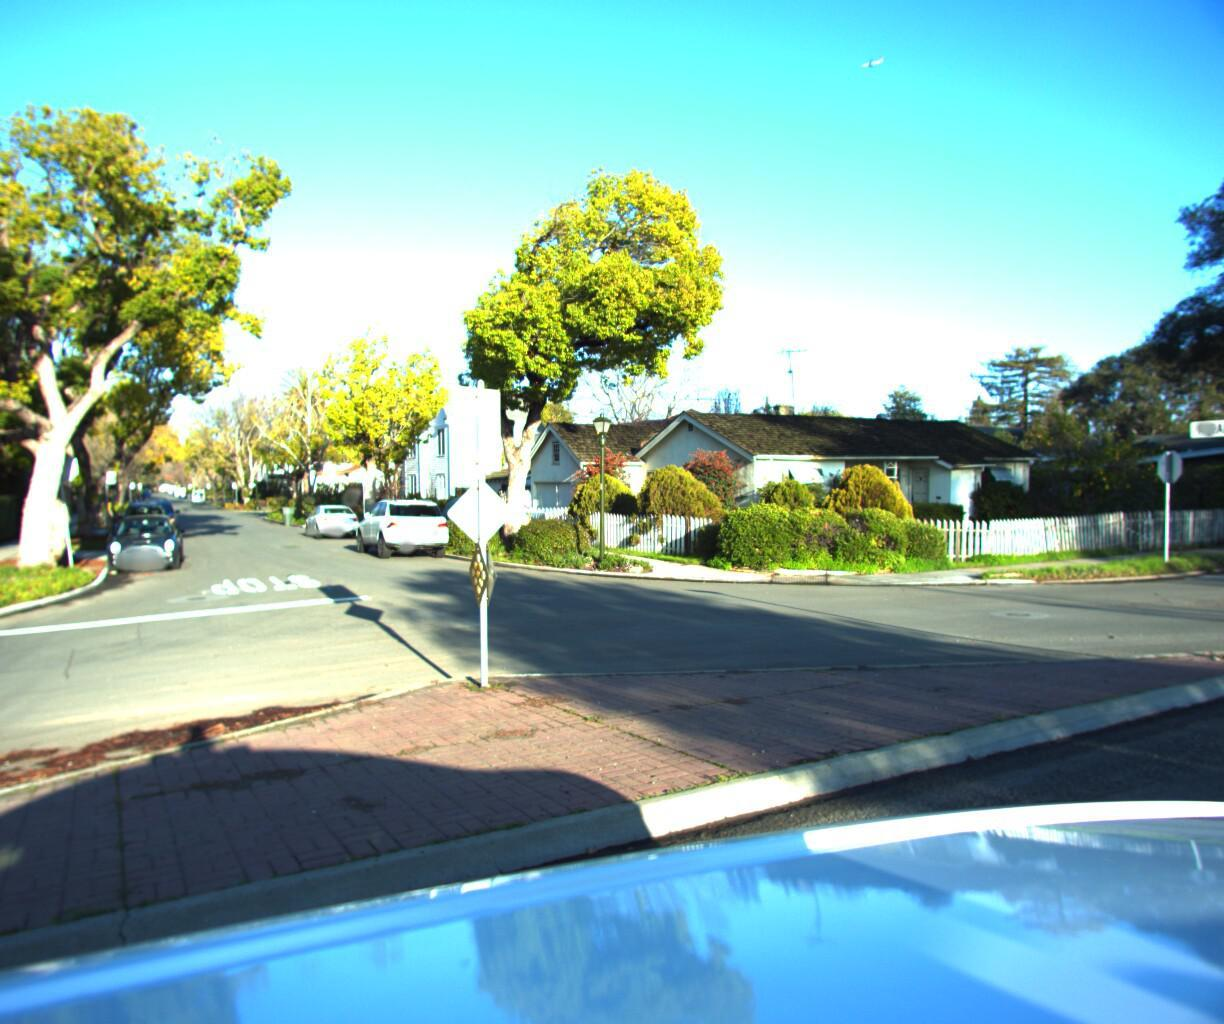car: (352, 494, 455, 562), (94, 513, 184, 579), (120, 499, 176, 546), (301, 499, 362, 539)
